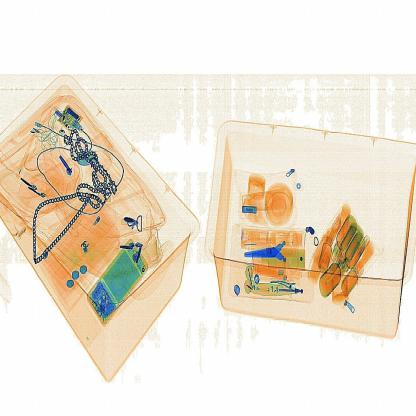gun: (244, 229, 305, 272)
